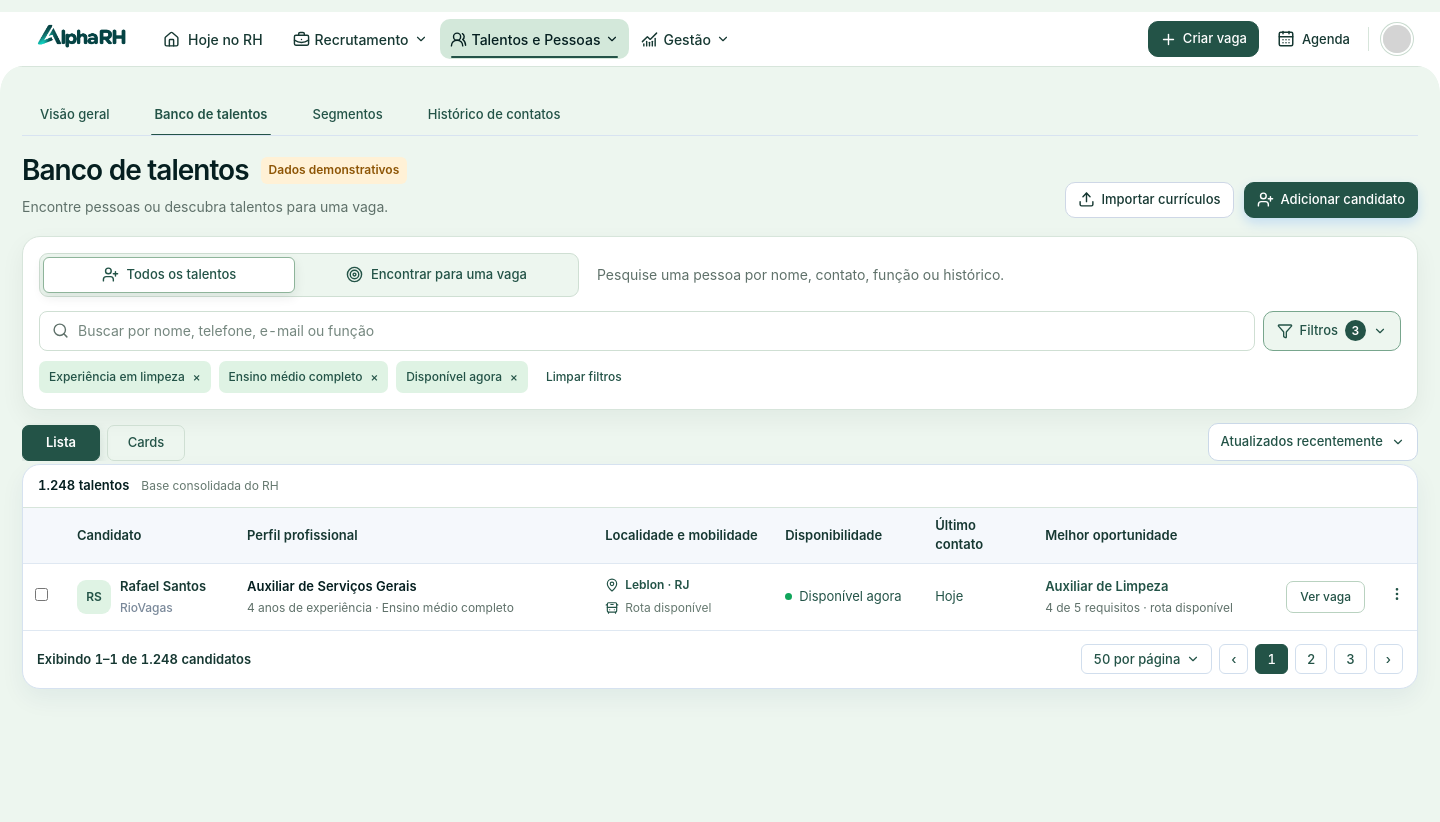
Test: Alpha RH connected screens › shows the segments workspace when the corresponding talent tab is selected
Click the tab "Segmentos".
click(348, 115)  # box [294,94,401,135]
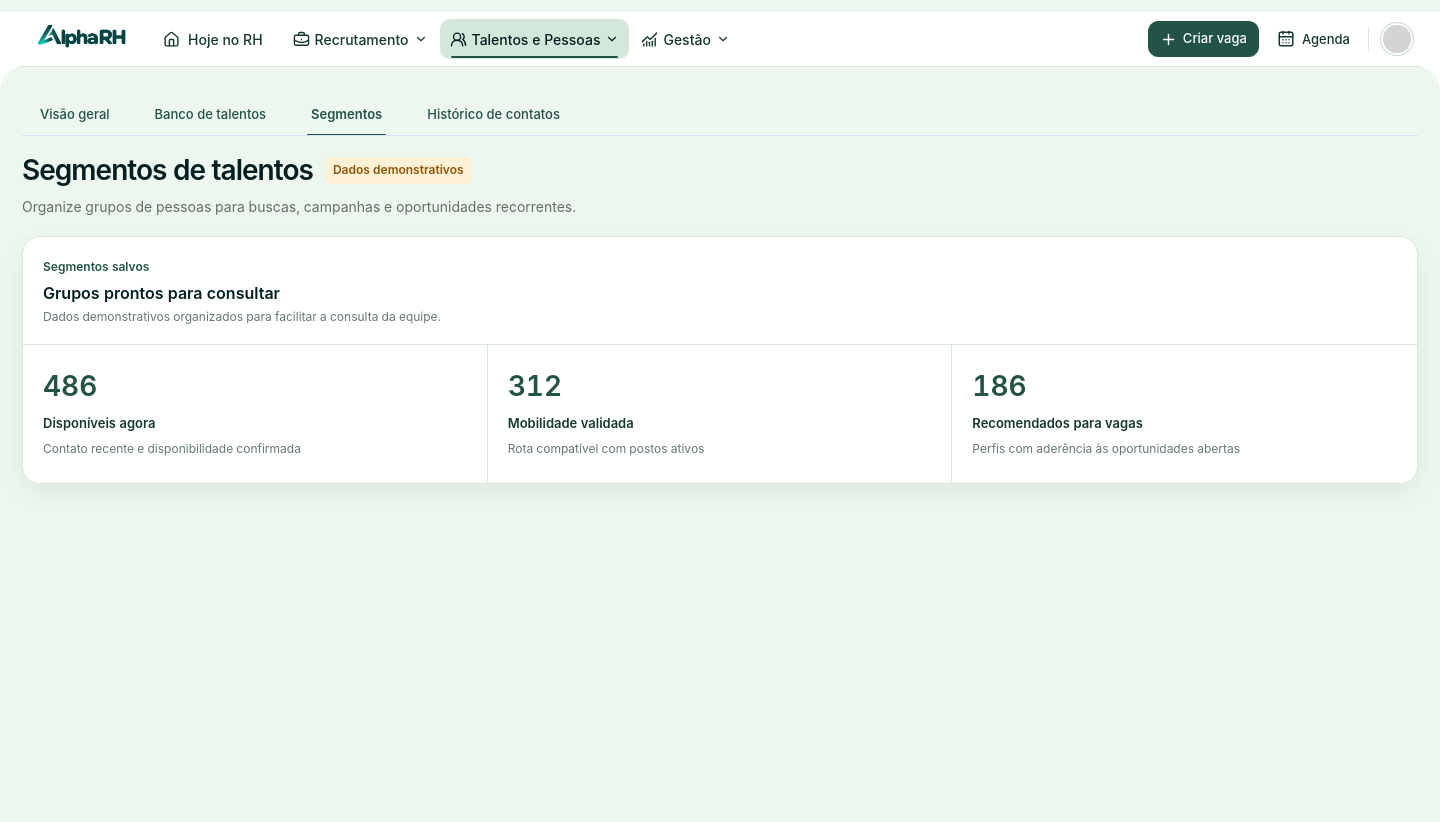
Now the heading "Segmentos de talentos" is shown, box [22,154,313,188]
